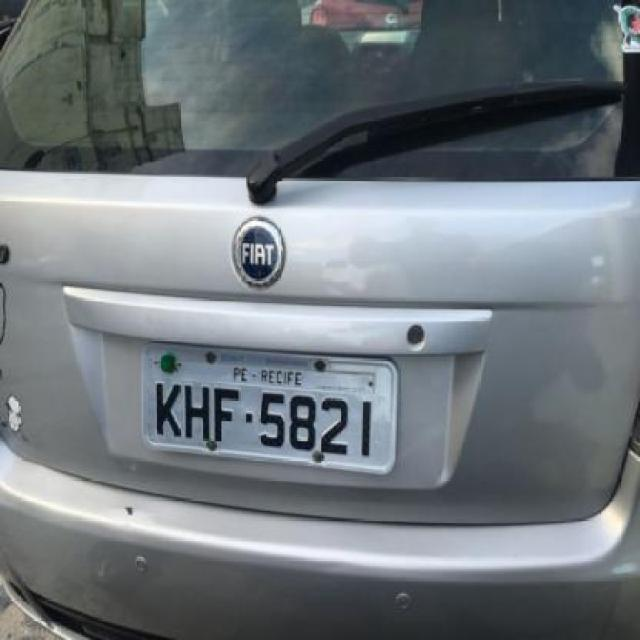old_plate: (135, 337, 407, 482)
